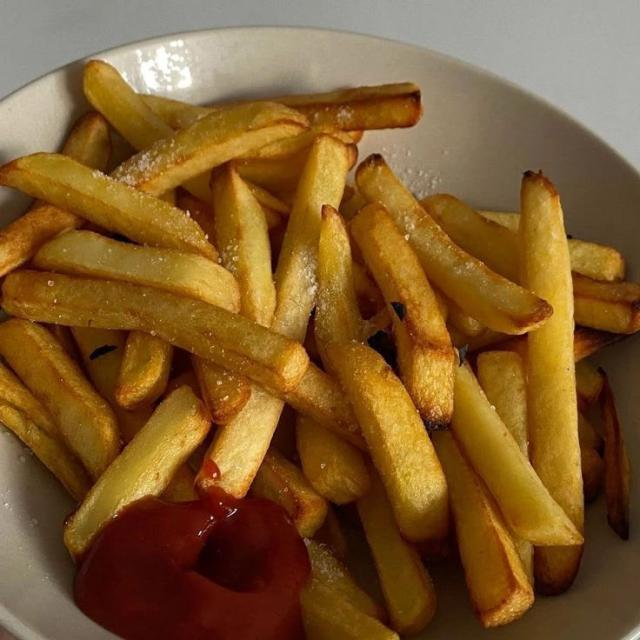potato fries: (0, 60, 639, 639), (3, 272, 308, 392), (357, 154, 552, 333), (65, 387, 210, 559), (327, 343, 448, 540), (452, 363, 582, 545), (351, 204, 455, 428), (0, 154, 216, 259), (520, 173, 583, 532), (434, 433, 533, 627), (0, 319, 119, 479), (267, 136, 348, 371), (113, 103, 307, 194), (34, 231, 239, 311), (272, 135, 349, 341), (357, 474, 436, 633), (212, 166, 275, 326), (197, 386, 284, 498), (72, 327, 151, 443), (0, 402, 91, 501), (420, 194, 519, 282), (83, 60, 173, 150), (314, 206, 361, 371), (282, 363, 366, 450), (271, 83, 421, 130), (314, 206, 361, 356), (276, 83, 421, 130), (252, 449, 327, 537), (296, 415, 369, 504), (306, 540, 386, 620), (0, 202, 83, 275), (300, 578, 399, 639), (477, 352, 528, 458), (477, 352, 528, 457), (601, 371, 630, 539), (115, 331, 173, 410), (0, 363, 60, 439), (573, 271, 639, 333), (192, 356, 251, 424), (240, 125, 357, 159), (574, 274, 639, 333), (233, 151, 308, 195), (139, 94, 211, 129), (568, 239, 625, 280), (440, 294, 487, 337), (175, 188, 214, 239), (314, 506, 348, 561), (353, 261, 385, 318), (161, 463, 198, 501), (580, 446, 605, 502), (576, 360, 604, 410), (45, 325, 80, 362), (579, 414, 603, 451)
